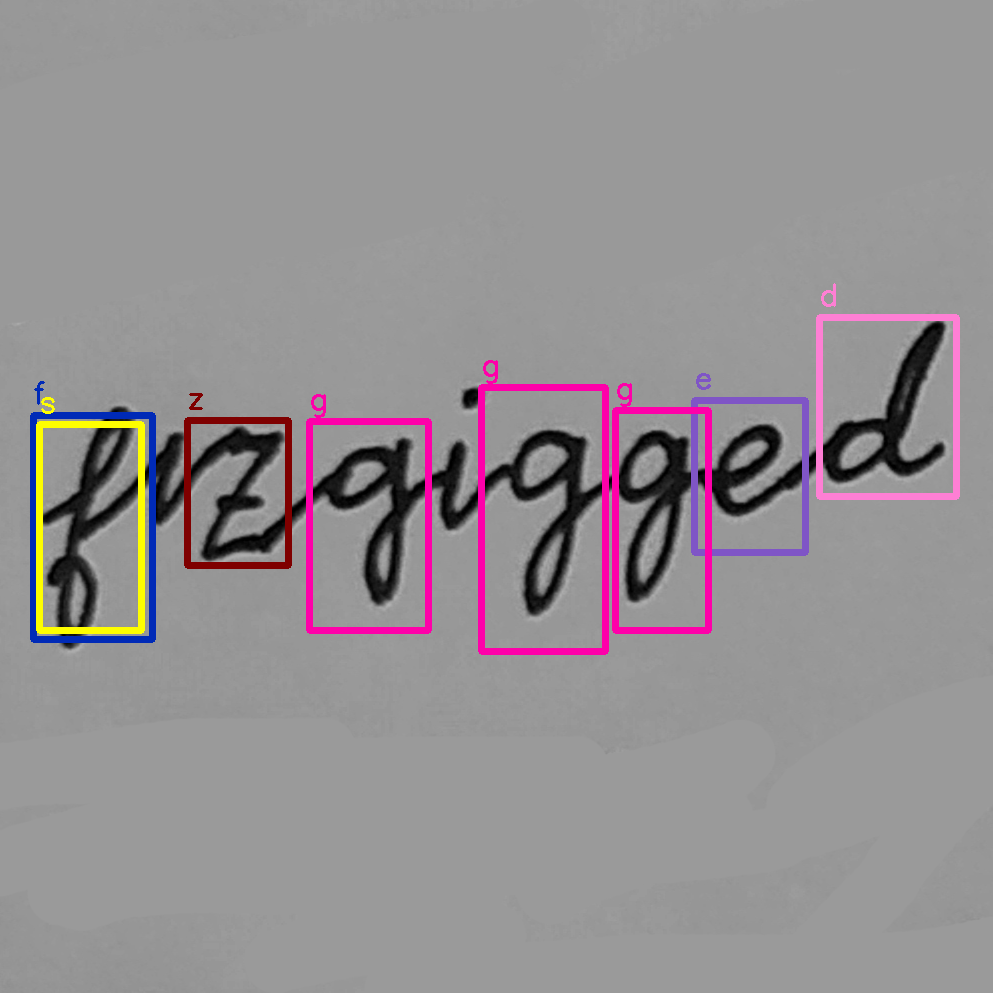d: (815, 312, 959, 494)
e: (707, 417, 784, 525)
f: (38, 400, 136, 655)
g: (319, 432, 423, 613), (499, 425, 596, 619), (612, 426, 698, 604)
i: (425, 380, 490, 536), (140, 422, 192, 531)
z: (196, 420, 287, 571)
